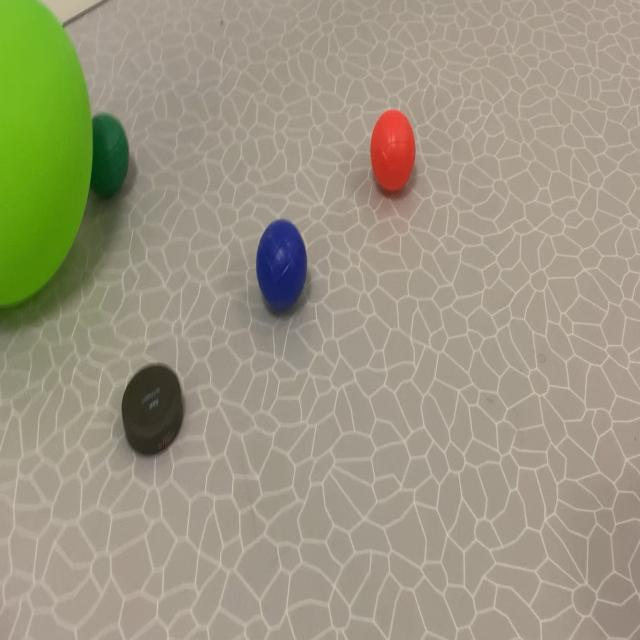7: (326, 61, 451, 275)
green ball: (238, 186, 334, 356)
red ball: (90, 41, 464, 326), (87, 68, 140, 222)
